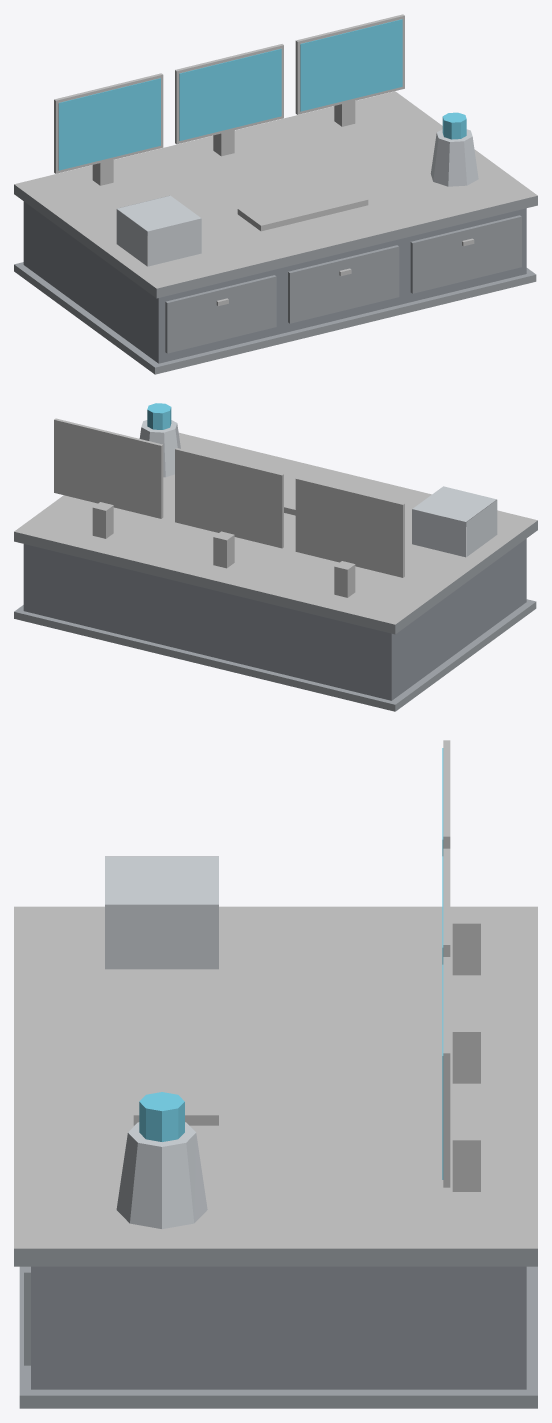
The model's file is bench_hitech_research.obj.
The picture shows the model from 3 angles, top to bottom: view 1: azimuth 30°, elevation 25°; view 2: azimuth 150°, elevation 25°; view 3: azimuth 270°, elevation 25°; orthographic projection. The views are drawn at different scales.
Visible parts, largest first — view 1: bench_hitech_research; view 2: bench_hitech_research; view 3: bench_hitech_research.
Part boxes in pixels (x1,y1,x2,y2): bench_hitech_research: [14, 14, 537, 374]; bench_hitech_research: [14, 403, 537, 711]; bench_hitech_research: [14, 740, 537, 1408].
Size of the model in its own units: 2.84 by 1.32 by 1.84.
